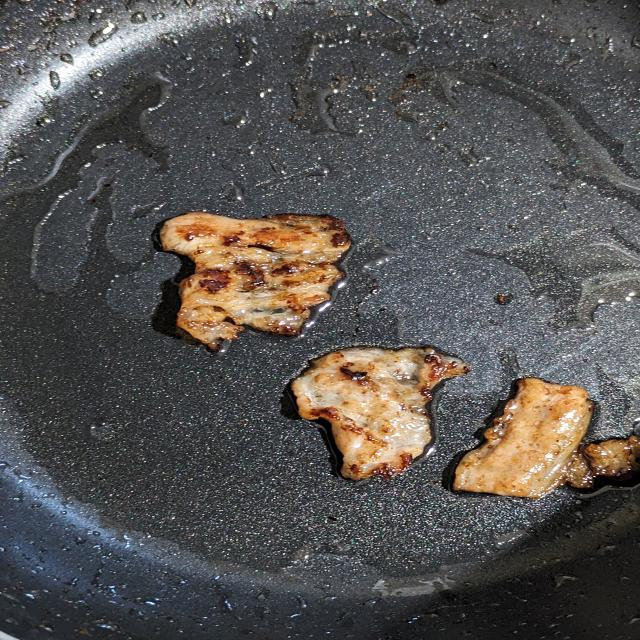OK cooked pork,: (156, 207, 360, 364), (437, 363, 640, 504), (285, 340, 479, 486)
